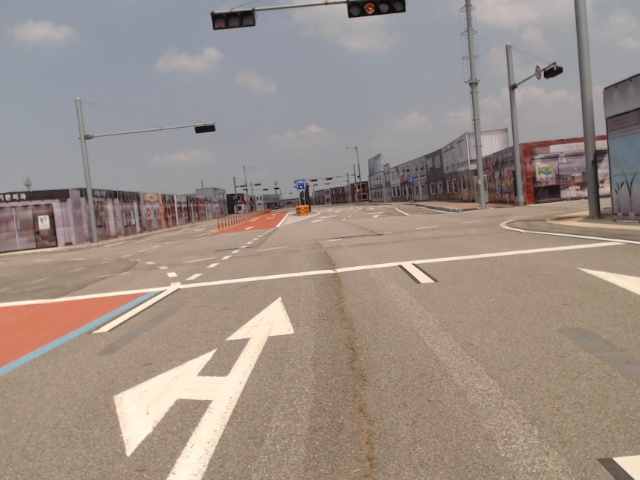orange_4: (344, 1, 406, 19)
